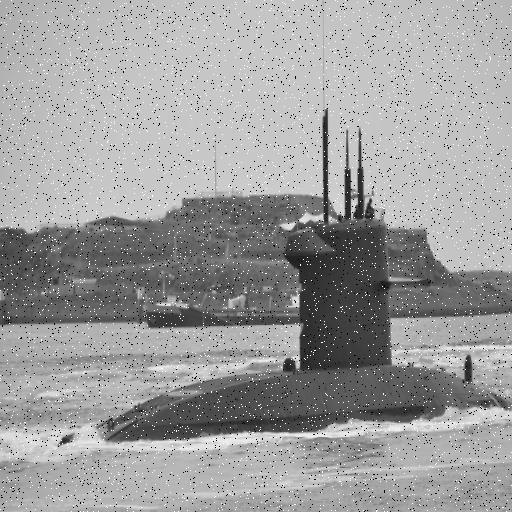submarine: (58, 220, 512, 442)
